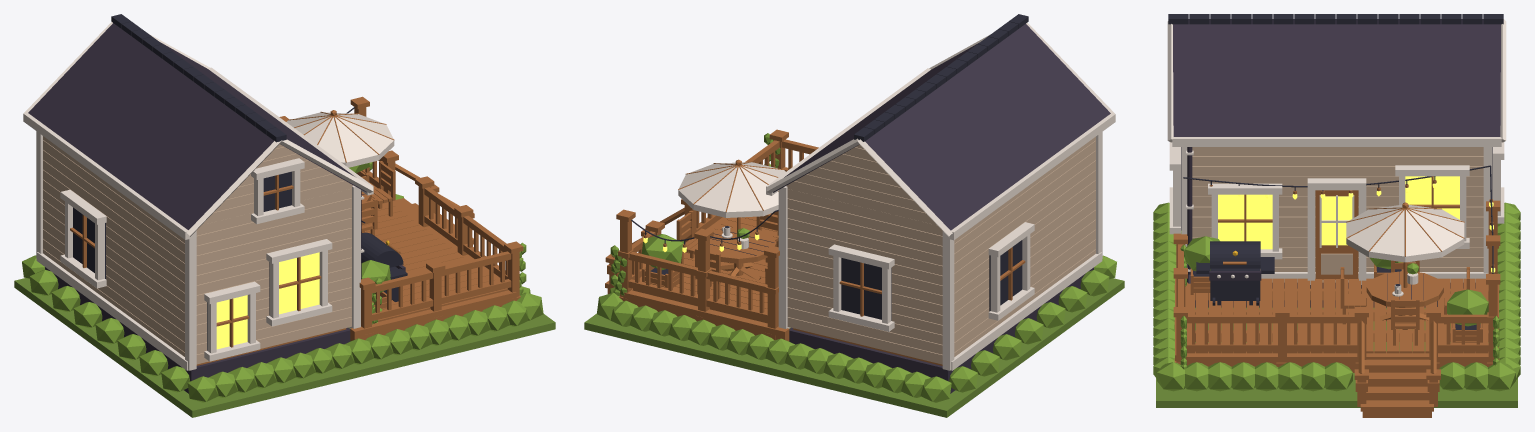
File: bld.house-c.lod1.glb
3 renders of one model, left to right at view 1: azimuth 30°, elevation 25°; view 2: azimuth 150°, elevation 25°; view 3: azimuth 270°, elevation 25°, orthographic.
Parts seen in each view (by area): view 1: object 6, roof, body, door_grill_lid; view 2: object 6, roof, body; view 3: object 6, roof, body, door_back, door_grill_lid.
Boxes of the visible parts, x1,y1,x2,y2 form: object 6: (14,96,555,417); roof: (23,14,373,239); body: (36,112,394,370); door_grill_lid: (361,232,403,267); object 6: (584,129,1124,417); roof: (766,14,1115,240); body: (678,132,1102,370); object 6: (1153,147,1520,417); roof: (1167,14,1506,146); body: (1169,142,1504,296); door_back: (1315,190,1358,279); door_grill_lid: (1210,241,1260,268).
Size of the model in its own units: 9.23 by 5.77 by 7.41.
